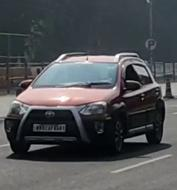Car: (6, 51, 165, 161)
